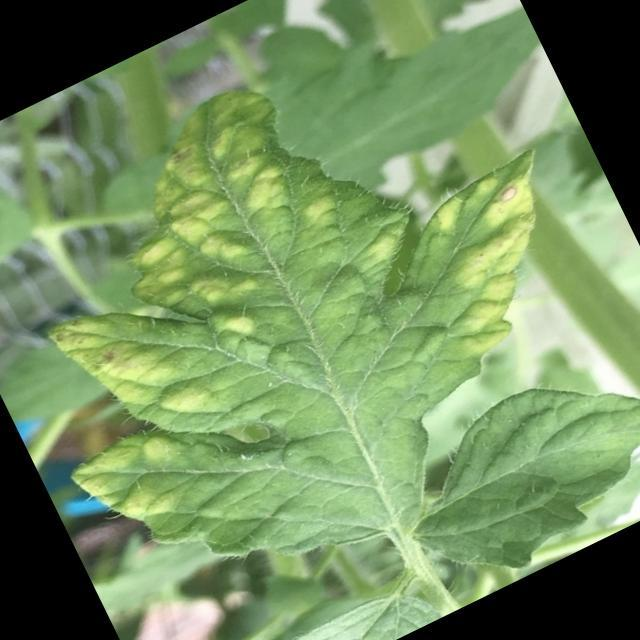Tomato bacterial spot leaf: (0, 0, 640, 640)
Tomato healthy leaf: (382, 329, 640, 608)
